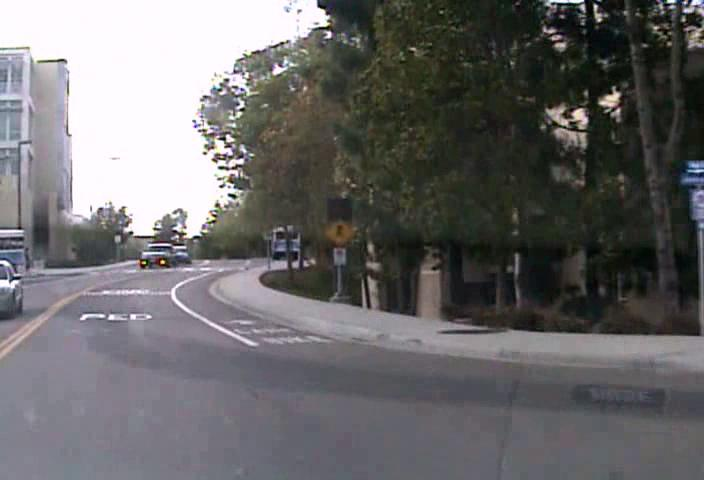pedestrianCrossing: (323, 217, 356, 246)
